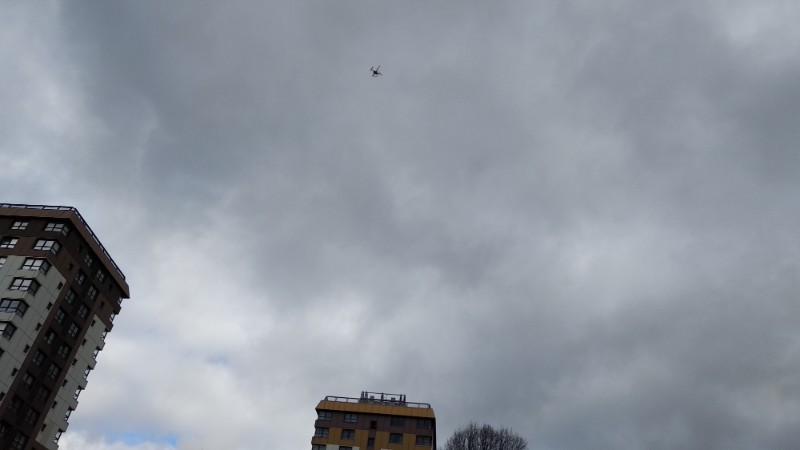drone: (370, 66, 382, 76)
